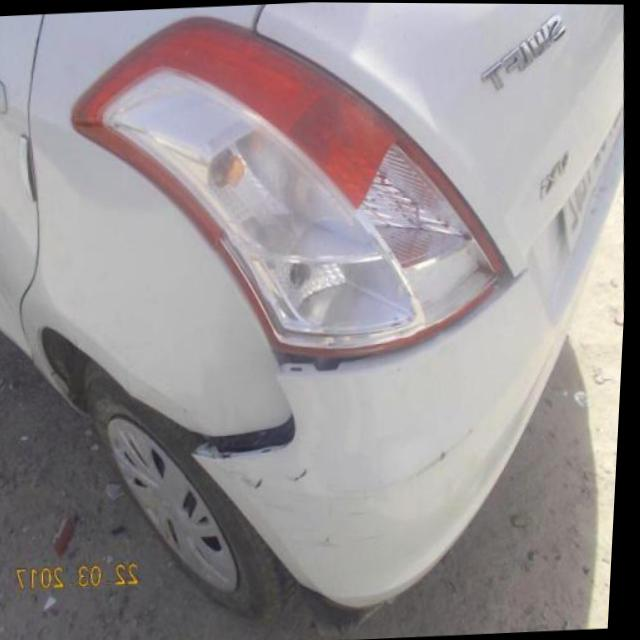Car-Damage: (202, 408, 304, 460), (272, 344, 381, 378)
